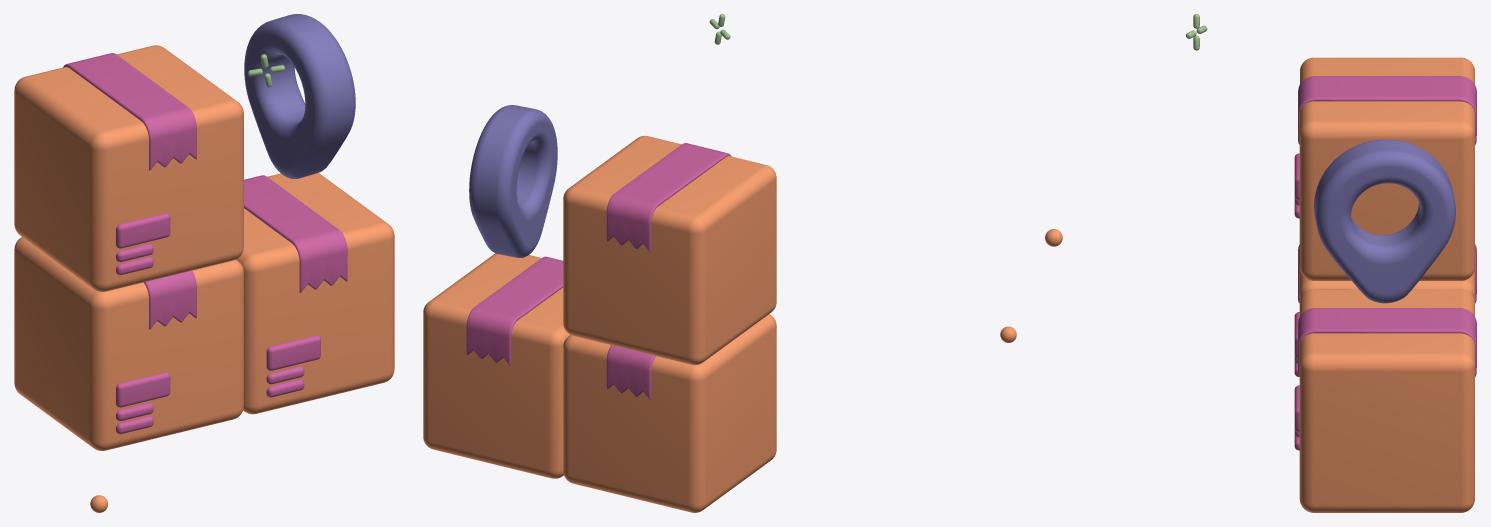
Rendered from package-tracking-3d-animated-icon-1659895064584.glb.
3 views of the same model, side by side, from view 1: azimuth 30°, elevation 25°; view 2: azimuth 150°, elevation 25°; view 3: azimuth 270°, elevation 25° (orthographic). The views are drawn at different scales.
Visible parts, largest first — view 1: Cube.011, Cube.006, Cube.005, Circle.001, Cube.010, Cube.004, Cube.002, Cube.003, Cube.014, Cube.009; view 2: Cube.011, Cube.006, Cube.005, Circle.001, Cube.010, Cube.004, Cube.003; view 3: Cube.005, Cube.011, Circle.001, Cube.004, Cube.010, Cube.006.
Part boxes in pixels (left/top/right/bottom): Cube.011: left=14, top=45, right=243, bottom=291; Cube.006: left=14, top=237, right=243, bottom=450; Cube.005: left=236, top=173, right=394, bottom=414; Circle.001: left=244, top=14, right=355, bottom=178; Cube.010: left=63, top=53, right=196, bottom=170; Cube.004: left=244, top=175, right=347, bottom=292; Cube.002: left=266, top=335, right=320, bottom=397; Cube.003: left=144, top=270, right=196, bottom=329; Cube.014: left=116, top=213, right=170, bottom=275; Cube.009: left=116, top=372, right=170, bottom=434; Cube.011: left=563, top=135, right=776, bottom=365; Cube.006: left=563, top=314, right=776, bottom=512; Cube.005: left=423, top=253, right=570, bottom=478; Circle.001: left=469, top=105, right=557, bottom=257; Cube.010: left=606, top=143, right=731, bottom=252; Cube.004: left=466, top=256, right=563, bottom=365; Cube.003: left=606, top=345, right=655, bottom=399; Cube.005: left=1299, top=289, right=1474, bottom=512; Cube.011: left=1299, top=57, right=1474, bottom=280; Circle.001: left=1314, top=139, right=1455, bottom=303; Cube.004: left=1298, top=308, right=1476, bottom=376; Cube.010: left=1298, top=76, right=1476, bottom=144; Cube.006: left=1299, top=270, right=1474, bottom=315.
Size of the model in its own units: 2.15 by 1.97 by 1.87.
